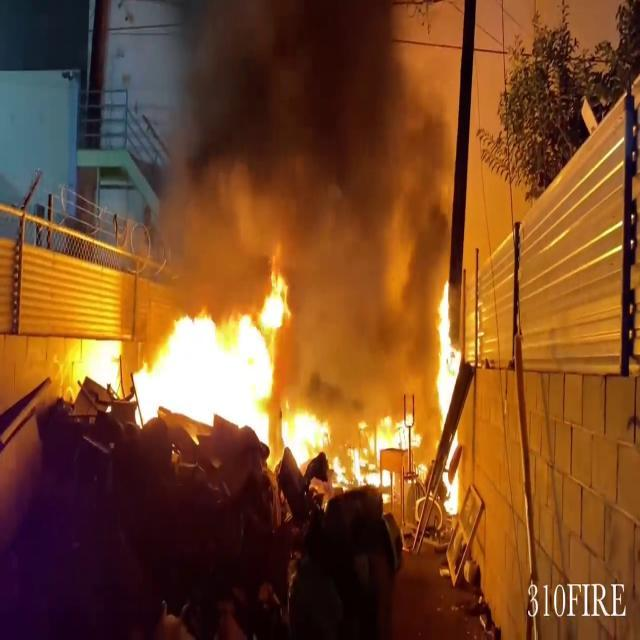Fire: (128, 282, 288, 446), (429, 273, 469, 522), (340, 405, 417, 488), (278, 406, 332, 476)
Smoke: (140, 0, 460, 332)
